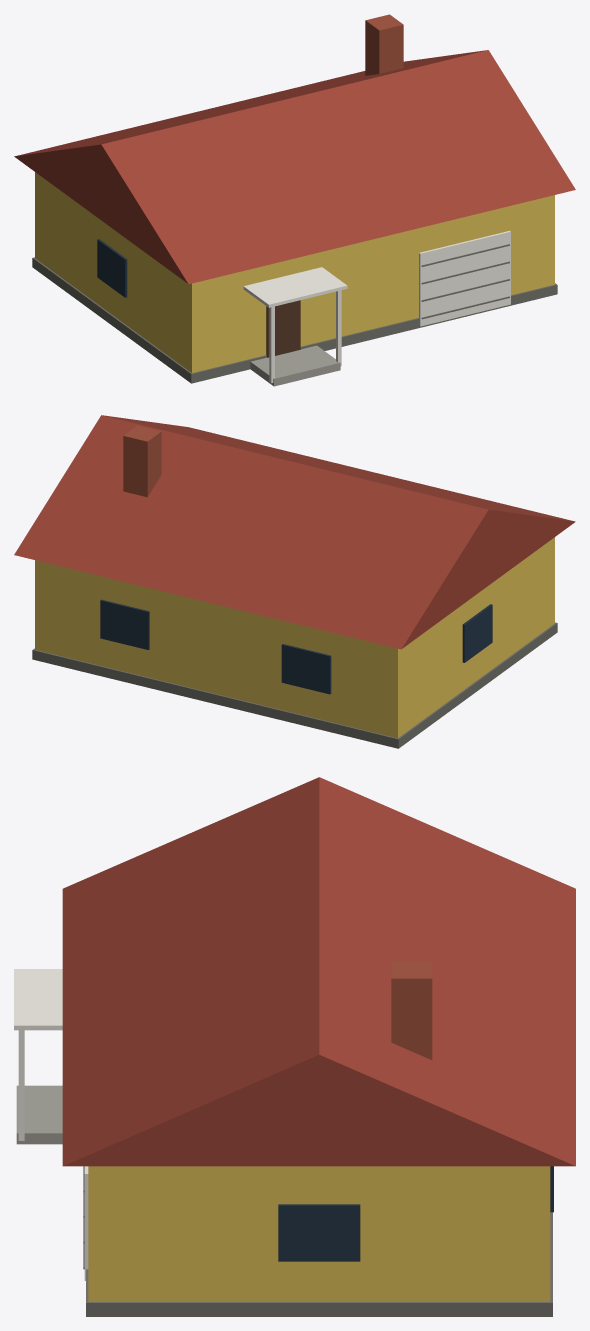
The model's file is house_c.glb.
The picture shows the model from 3 angles, top to bottom: view 1: azimuth 30°, elevation 25°; view 2: azimuth 150°, elevation 25°; view 3: azimuth 270°, elevation 25°; orthographic projection. The views are drawn at different scales.
Parts seen in each view (by area): view 1: house_c_Body; view 2: house_c_Body; view 3: house_c_Body.
Boxes of the visible parts, x1,y1,x2,y2 form: house_c_Body: (14, 14, 575, 386); house_c_Body: (14, 415, 575, 748); house_c_Body: (14, 777, 575, 1316).
Bounding box in the file's own units: 12.8 × 6.5 × 10.95.
